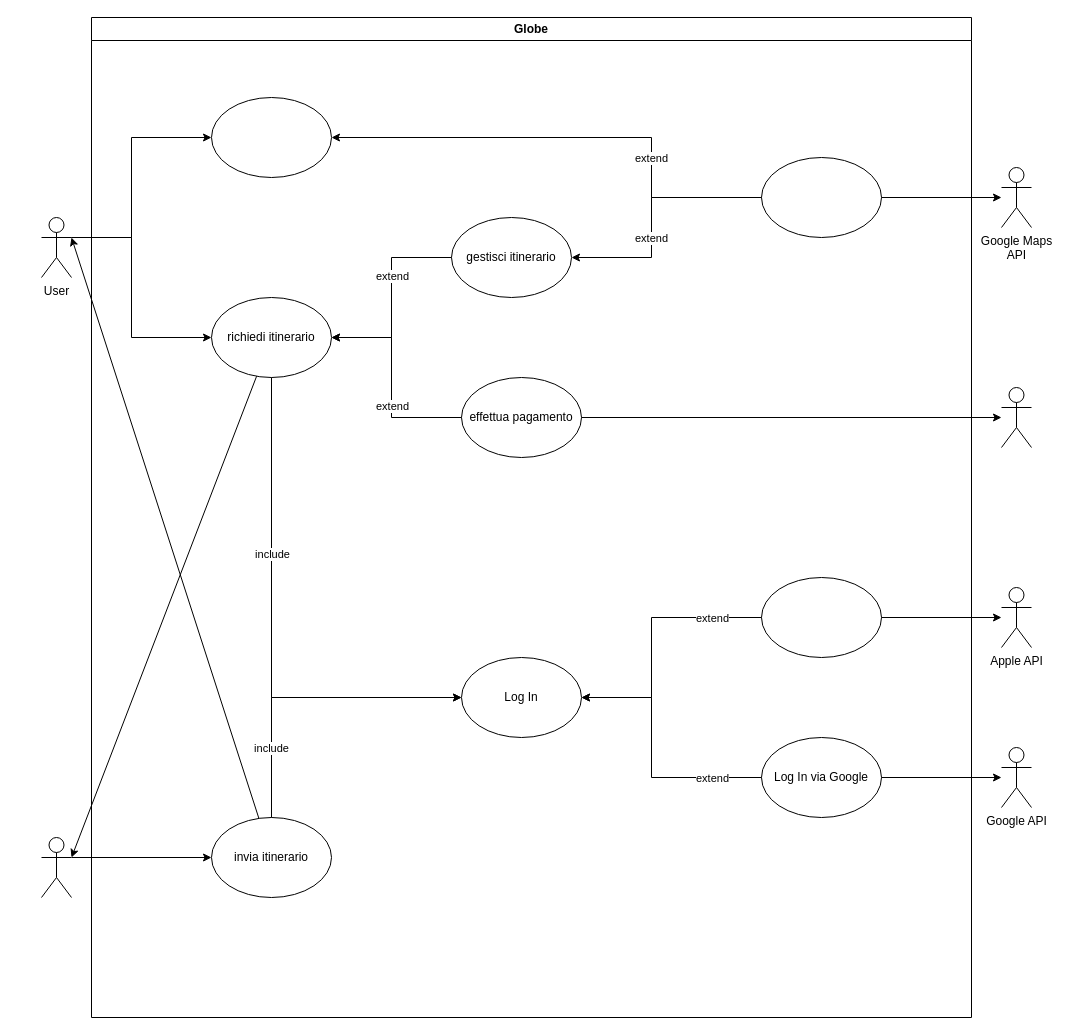
Image size: 1069x1035. Some labels were removed from this diagram. The box of each missing label's shape, as (x1, y1, x2, y2) in pixels:
Log In via Apple: (760, 576, 882, 658)
Paypal API: (1000, 386, 1032, 448)
pianifica viaggio: (210, 96, 332, 178)
Tourist Agency: (40, 836, 72, 898)
visualizza su mappa: (760, 156, 882, 238)
